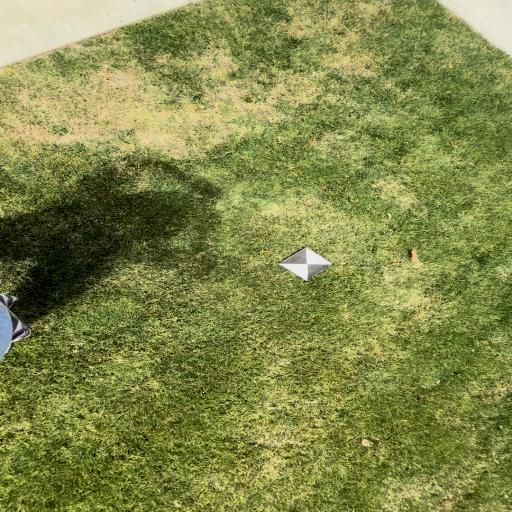target: (279, 247, 332, 280)
